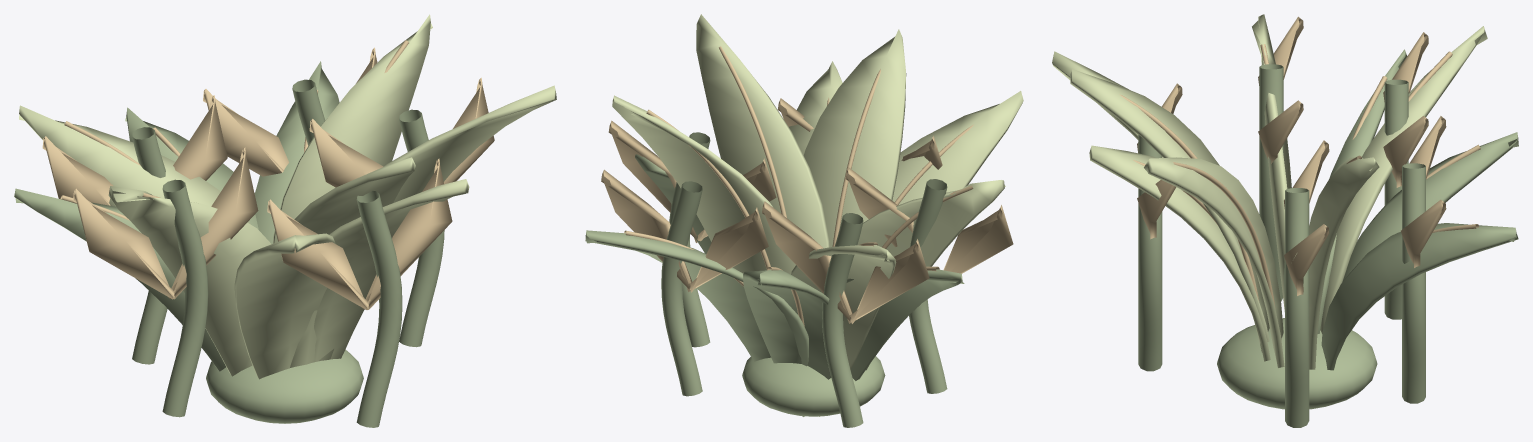
File: bio_mist_leaf_17_near.glb
3 views of the same model, side by side, from view 1: azimuth 30°, elevation 25°; view 2: azimuth 150°, elevation 25°; view 3: azimuth 270°, elevation 25° (orthographic). The views are drawn at different scales.
Visible parts, largest first — view 1: Cupped condensate leaf.008, Cupped condensate leaf.007, Cupped condensate leaf.004, Root rosette, Secondary fan lobe.008, Secondary fan lobe.004, Cupped condensate leaf.010, Branching support.002, Cupped condensate leaf.001, Branching support.004, Cupped condensate leaf.005, Secondary fan lobe.002 (+9 smaller); view 2: Cupped condensate leaf.002, Cupped condensate leaf.005, Cupped condensate leaf.008, Cupped condensate leaf.003, Cupped condensate leaf.007, Cupped condensate leaf.006, Root rosette, Secondary fan lobe.002, Secondary fan lobe.006, Cupped condensate leaf.004, Branching support.001, Branching support.003 (+13 smaller); view 3: Cupped condensate leaf.003, Root rosette, Cupped condensate leaf.005, Cupped condensate leaf.001, Cupped condensate leaf.002, Branching support, Cupped condensate leaf.010, Branching support.003, Cupped condensate leaf.006, Cupped condensate leaf.008, Branching support.002, Cupped condensate leaf.004 (+11 smaller).
Boxes of the visible parts, box(x1,y1,x2,y2) form: Cupped condensate leaf.008: box(273, 14, 432, 243); Cupped condensate leaf.007: box(234, 233, 335, 379); Cupped condensate leaf.004: box(108, 186, 271, 376); Root rosette: box(206, 349, 363, 423); Secondary fan lobe.008: box(73, 147, 258, 299); Secondary fan lobe.004: box(267, 158, 452, 309); Cupped condensate leaf.010: box(314, 179, 469, 361); Branching support.002: box(356, 191, 402, 427); Cupped condensate leaf.001: box(19, 105, 250, 224); Branching support.004: box(162, 179, 208, 417); Cupped condensate leaf.005: box(383, 85, 556, 202); Secondary fan lobe.002: box(42, 95, 227, 205); Cupped condensate leaf.002: box(803, 29, 906, 247); Cupped condensate leaf.005: box(696, 14, 829, 248); Cupped condensate leaf.008: box(612, 95, 795, 274); Cupped condensate leaf.003: box(585, 230, 808, 366); Cupped condensate leaf.007: box(892, 91, 1023, 205); Cupped condensate leaf.006: box(743, 269, 843, 416); Root rosette: box(742, 356, 885, 416); Secondary fan lobe.002: box(762, 201, 929, 323); Secondary fan lobe.006: box(601, 169, 768, 292); Cupped condensate leaf.004: box(857, 180, 1005, 370); Branching support.001: box(822, 213, 863, 427); Branching support.003: box(661, 181, 702, 396); Cupped condensate leaf.003: box(1321, 223, 1518, 370); Root rosette: box(1217, 318, 1377, 409); Cupped condensate leaf.005: box(1144, 157, 1284, 367); Cupped condensate leaf.001: box(1320, 26, 1487, 333); Cupped condensate leaf.002: box(1070, 69, 1265, 352); Branching support: box(1285, 188, 1309, 427); Cupped condensate leaf.010: box(1089, 145, 1270, 361); Branching support.003: box(1402, 163, 1425, 403); Cupped condensate leaf.006: box(1340, 132, 1518, 350); Cupped condensate leaf.008: box(1309, 157, 1379, 369); Branching support.002: box(1138, 135, 1162, 371); Cupped condensate leaf.004: box(1252, 14, 1291, 311).
Size of the model in its own units: 1.88 by 1.38 by 1.74.
